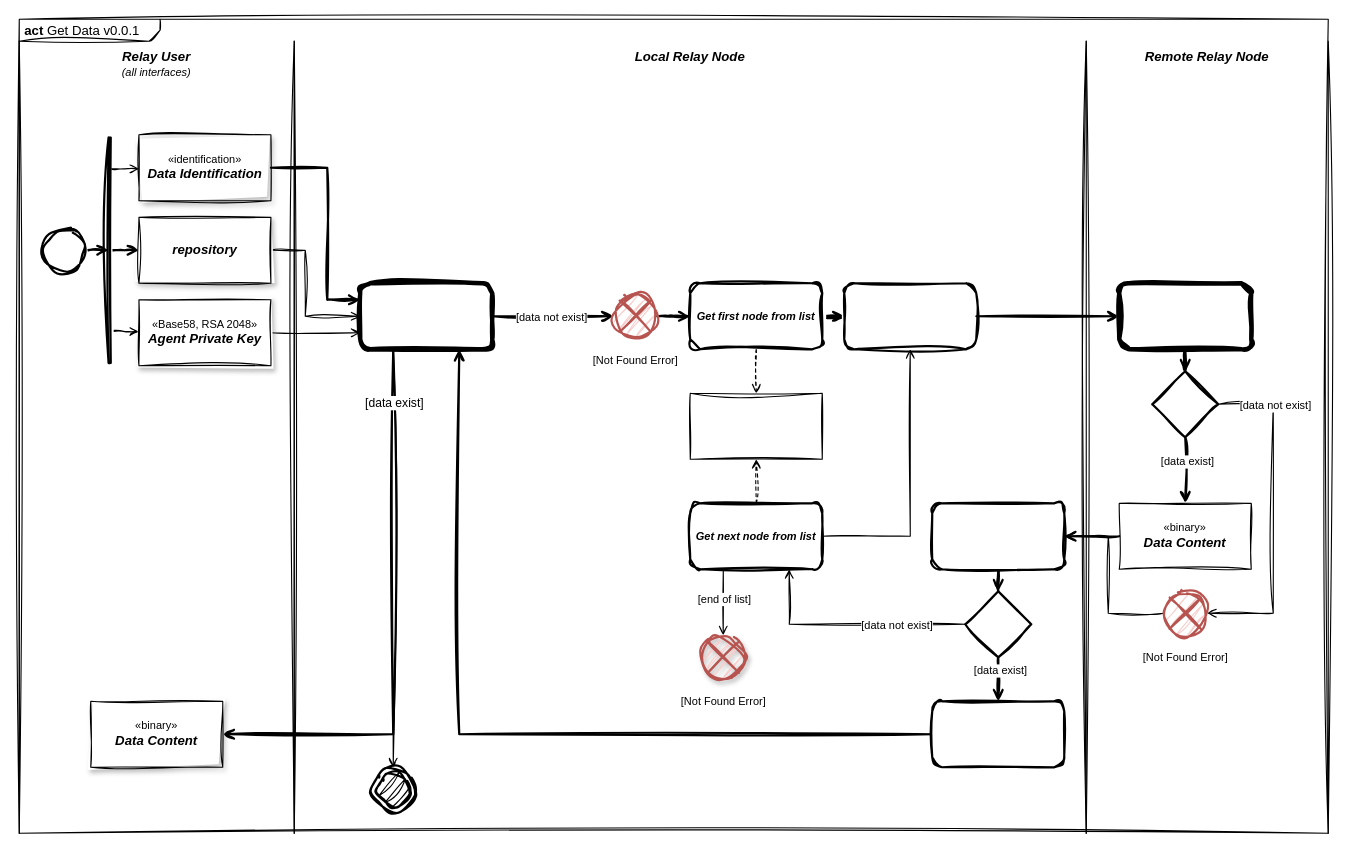
Image size: 1348x853. Some labels were removed from this diagram. Each missing label, with the centre of its shape:
"Add content to repository" belongs at point (998, 734).
"Network Priority List" belongs at point (755, 425).
"Process response from TCP/IP network" belongs at point (998, 536).
"Read Data" belongs at point (426, 315).
"Request data over TCP/IP network" belongs at point (910, 316).
"Send Data" belongs at point (1184, 315).
